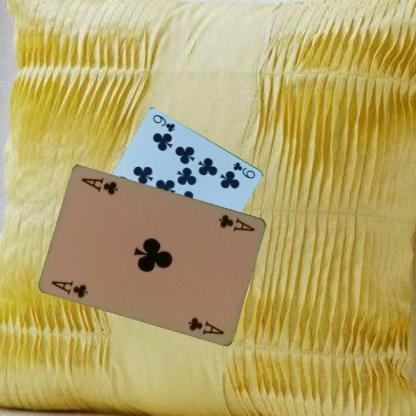9c: (230, 160, 256, 180)
Ac: (48, 278, 90, 299), (216, 212, 257, 232)
